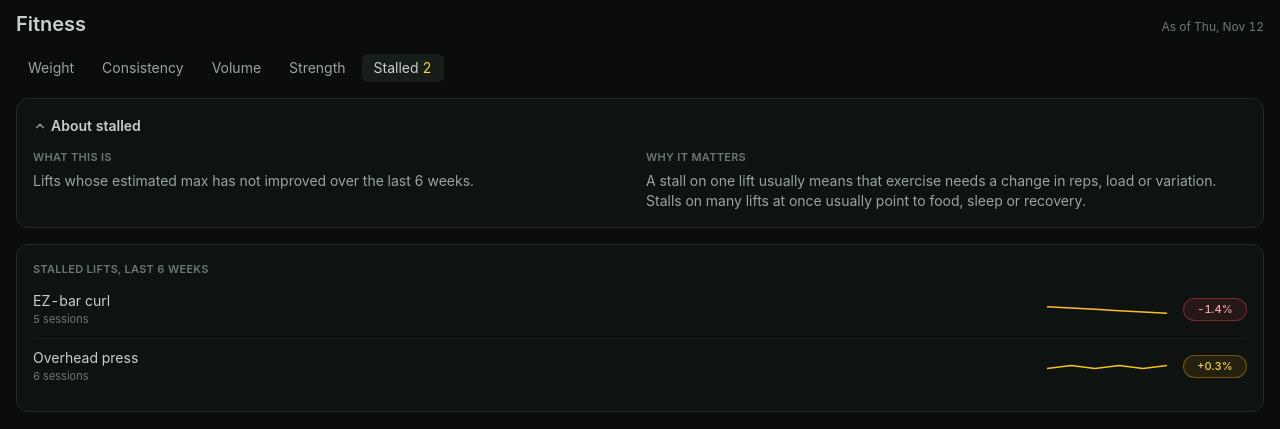
FitnessPage › collapses the explainer with the chevron
Click the button "About stalled".
click(87, 126)  # box [33, 116, 141, 136]
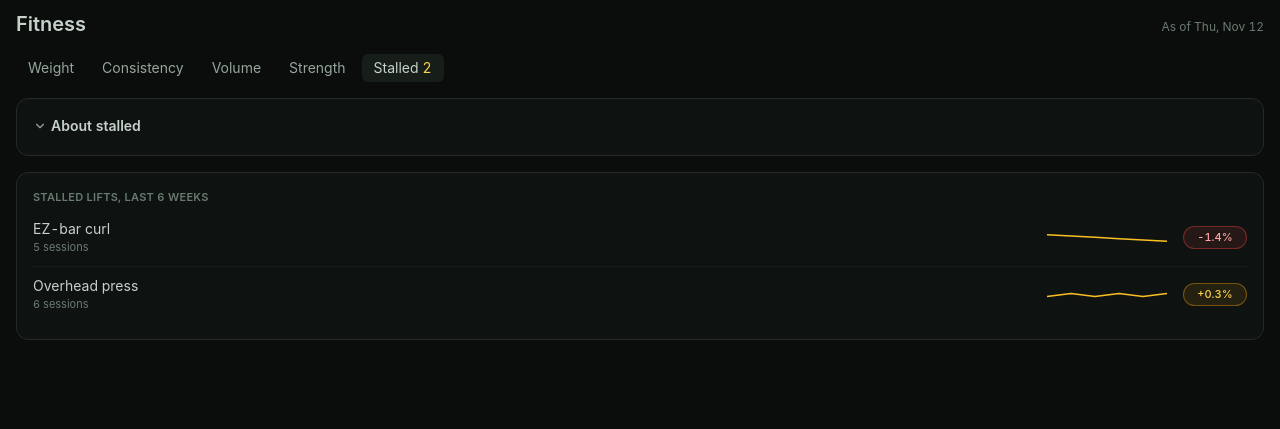
Now the text "Lifts whose estimated max has not improved over the last 6 weeks." is gone
